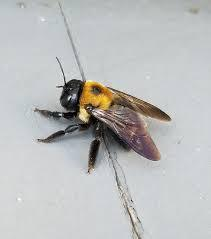Xylocopa: (31, 49, 170, 171)
